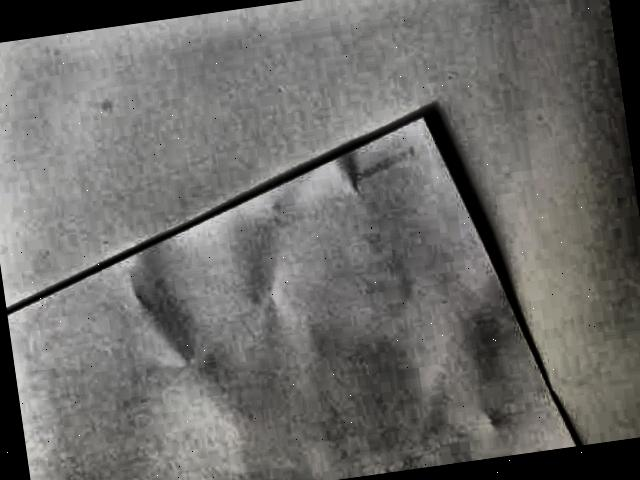Paper: (0, 79, 587, 480)
